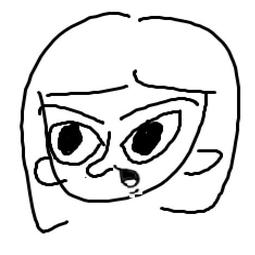ear: (176, 146, 224, 176), (32, 155, 58, 189)
eye: (117, 108, 182, 166), (46, 118, 102, 166)
frowning_eyebrow: (117, 95, 200, 120), (33, 103, 104, 123)
nose: (85, 130, 113, 179)
open_mouth: (115, 167, 144, 188)
